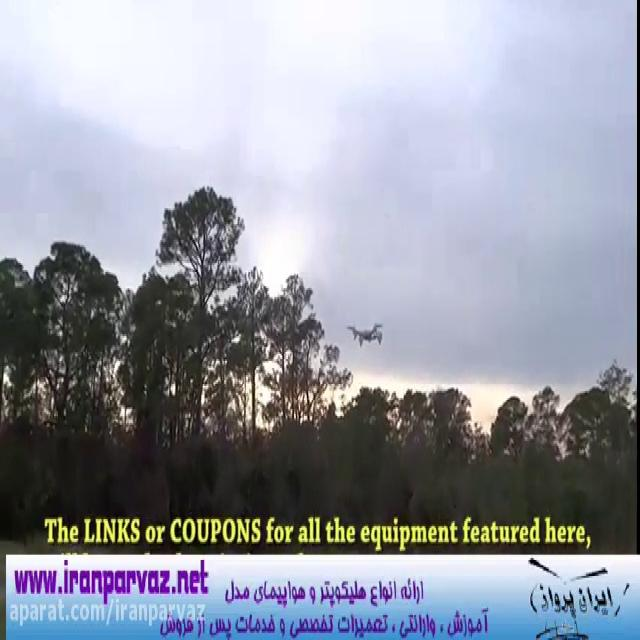drone: (343, 316, 386, 351)
